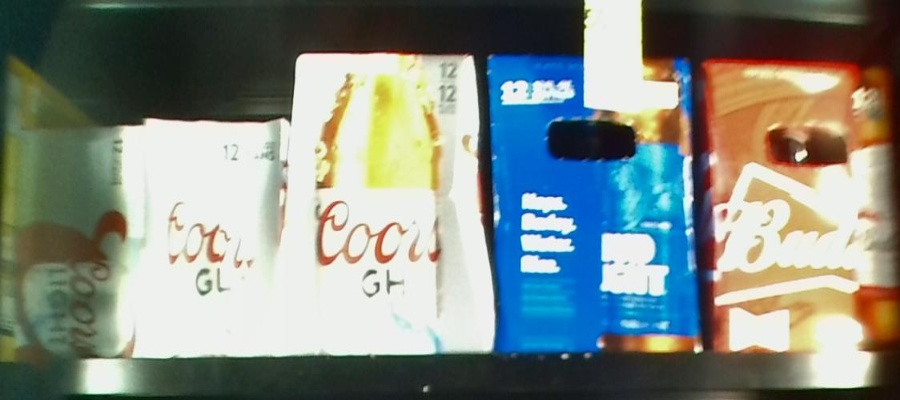bottle: (491, 57, 698, 356), (292, 51, 495, 354), (701, 58, 900, 353), (139, 118, 286, 355), (16, 125, 136, 357)
